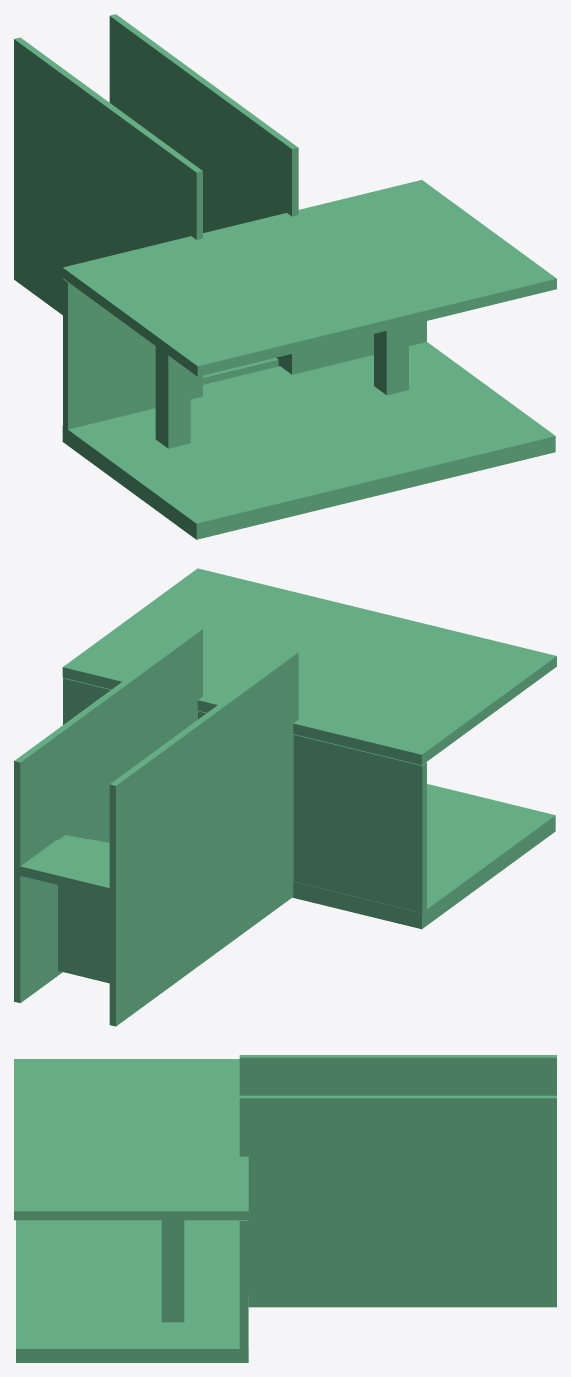
Rendered from PZ_MetroStation_StairModule_COLLISION_HELPERS_ONLY.glb.
The picture shows the model from 3 angles, top to bottom: view 1: azimuth 30°, elevation 25°; view 2: azimuth 150°, elevation 25°; view 3: azimuth 270°, elevation 25°; orthographic projection. The views are drawn at different scales.
Parts seen in each view (by area): view 1: UCX_PZ_Ceiling, UCX_PZ_Platform_Slab, UCX_PZ_LeftStairWall, UCX_PZ_RightStairWall, UCX_PZ_RearWall_Left, UCX_PZ_Pillar_0, UCX_PZ_Pillar_1, UCX_PZ_RearWall_Right, UCX_PZ_Step_01, UCX_PZ_LowerStairLanding; view 2: UCX_PZ_LeftStairWall, UCX_PZ_Ceiling, UCX_PZ_RightStairWall, UCX_PZ_RearWall_Left, UCX_PZ_Platform_Slab, UCX_PZ_Step_18, UCX_PZ_UpperLanding, UCX_PZ_RearWall_Right; view 3: UCX_PZ_RightStairWall, UCX_PZ_Ceiling, UCX_PZ_Platform_Slab, UCX_PZ_LeftStairWall, UCX_PZ_Pillar_1, UCX_PZ_RearWall_Right.
Boxes of the visible parts, bbox=[...] form: UCX_PZ_Ceiling: bbox=[62, 180, 556, 376]; UCX_PZ_Platform_Slab: bbox=[62, 342, 555, 539]; UCX_PZ_LeftStairWall: bbox=[14, 37, 202, 397]; UCX_PZ_RightStairWall: bbox=[109, 14, 298, 374]; UCX_PZ_RearWall_Left: bbox=[63, 279, 196, 429]; UCX_PZ_Pillar_0: bbox=[155, 346, 190, 448]; UCX_PZ_Pillar_1: bbox=[374, 325, 408, 395]; UCX_PZ_RearWall_Right: bbox=[292, 321, 426, 374]; UCX_PZ_Step_01: bbox=[203, 358, 278, 384]; UCX_PZ_LowerStairLanding: bbox=[203, 366, 286, 396]; UCX_PZ_LeftStairWall: bbox=[109, 651, 298, 1026]; UCX_PZ_Ceiling: bbox=[62, 568, 556, 765]; UCX_PZ_RightStairWall: bbox=[14, 627, 202, 1003]; UCX_PZ_RearWall_Left: bbox=[293, 734, 426, 912]; UCX_PZ_Platform_Slab: bbox=[292, 784, 555, 929]; UCX_PZ_Step_18: bbox=[58, 835, 109, 983]; UCX_PZ_UpperLanding: bbox=[20, 840, 109, 897]; UCX_PZ_RearWall_Right: bbox=[63, 678, 110, 724]; UCX_PZ_RightStairWall: bbox=[239, 1095, 556, 1307]; UCX_PZ_Ceiling: bbox=[14, 1059, 248, 1220]; UCX_PZ_Platform_Slab: bbox=[16, 1220, 248, 1362]; UCX_PZ_LeftStairWall: bbox=[239, 1055, 556, 1095]; UCX_PZ_Pillar_1: bbox=[161, 1220, 184, 1322]; UCX_PZ_RearWall_Right: bbox=[239, 1220, 248, 1348].
Size of the model in its own units: 10 by 6.43 by 15.06.
